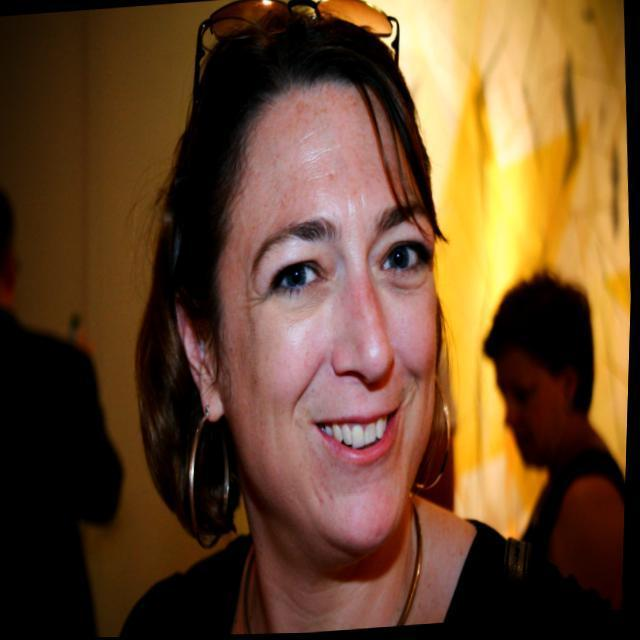puffy_eyes: (270, 282, 337, 325), (382, 264, 435, 302)
